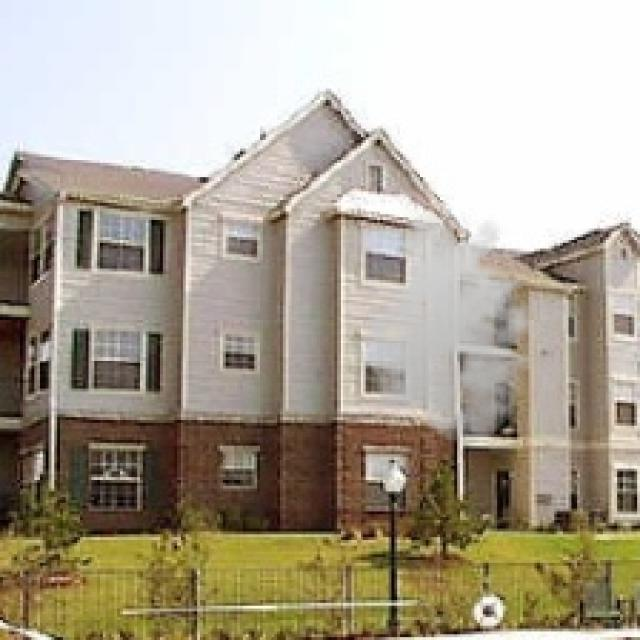Smoke: (354, 208, 554, 443)
